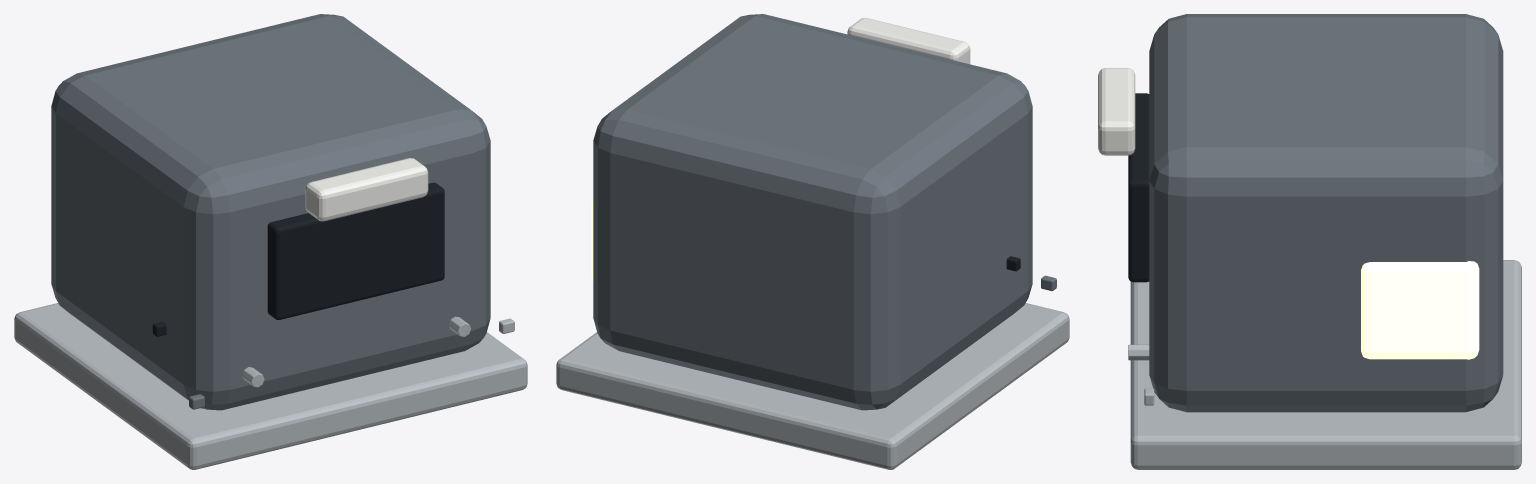
The model's file is prop_casino_prize_wheel_exterior_a_v01.glb.
3 renders of one model, left to right at view 1: azimuth 30°, elevation 25°; view 2: azimuth 150°, elevation 25°; view 3: azimuth 270°, elevation 25°, orthographic. The views are drawn at different scales.
Visible parts, largest first — view 1: component__object_specific_primary_body__primary_body, component__support_or_contact_structure__support, component__functional_opening_or_access__opening, component__handle_control_or_closure__handle; view 2: component__object_specific_primary_body__primary_body, component__support_or_contact_structure__support, component__handle_control_or_closure__handle; view 3: component__object_specific_primary_body__primary_body, component__support_or_contact_structure__support, component__secondary_functional_assembly__secondary_assembly, component__functional_opening_or_access__opening, component__handle_control_or_closure__handle.
Boxes of the visible parts, bbox=[...] form: component__object_specific_primary_body__primary_body: bbox=[51, 14, 490, 410]; component__support_or_contact_structure__support: bbox=[14, 303, 527, 469]; component__functional_opening_or_access__opening: bbox=[267, 182, 444, 319]; component__handle_control_or_closure__handle: bbox=[305, 158, 428, 221]; component__object_specific_primary_body__primary_body: bbox=[593, 14, 1032, 410]; component__support_or_contact_structure__support: bbox=[556, 303, 1069, 469]; component__handle_control_or_closure__handle: bbox=[847, 17, 970, 64]; component__object_specific_primary_body__primary_body: bbox=[1149, 14, 1503, 412]; component__support_or_contact_structure__support: bbox=[1130, 260, 1521, 469]; component__secondary_functional_assembly__secondary_assembly: bbox=[1361, 261, 1479, 359]; component__functional_opening_or_access__opening: bbox=[1128, 93, 1149, 282]; component__handle_control_or_closure__handle: bbox=[1098, 68, 1135, 155].
Bounding box in the file's own units: 1.38 × 1.07 × 1.37.
